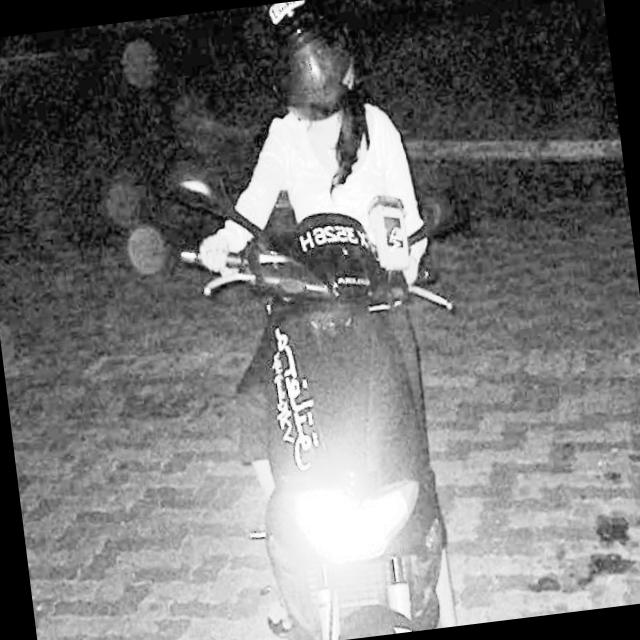Motorcycle: (134, 146, 526, 640)
Person: (173, 0, 440, 354)
